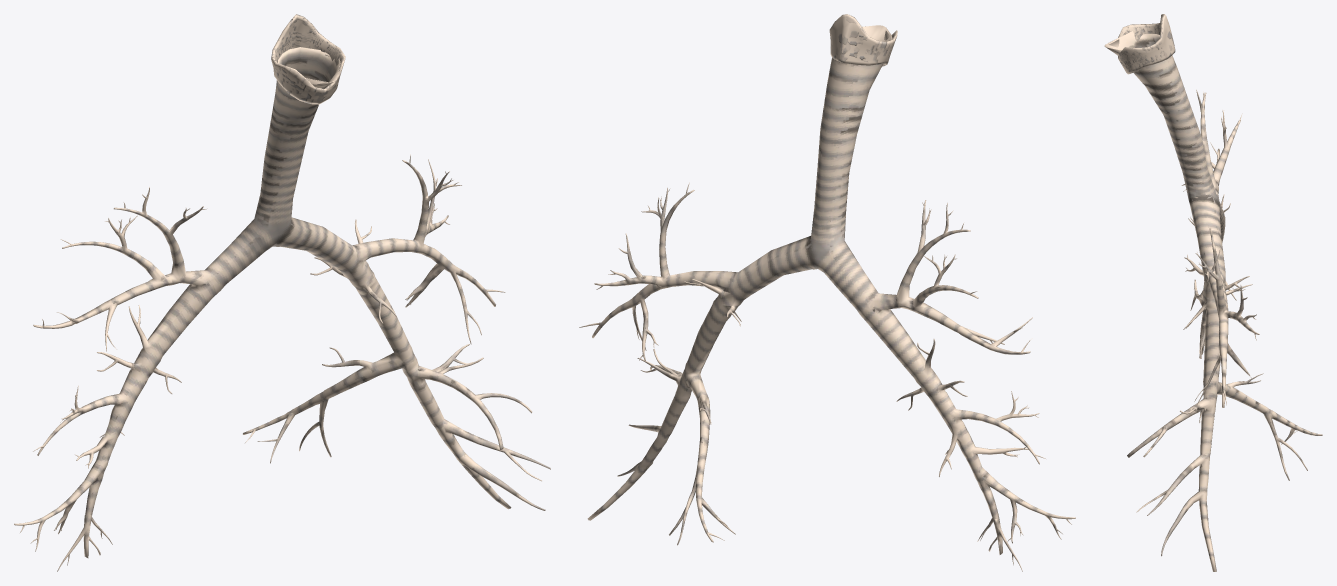
The model's file is Bronchi.FBX.
3 renders of one model, left to right at view 1: azimuth 30°, elevation 25°; view 2: azimuth 150°, elevation 25°; view 3: azimuth 270°, elevation 25°, orthographic. The views are drawn at different scales.
Visible parts, largest first — view 1: Bronchi; view 2: Bronchi; view 3: Bronchi.
Boxes of the visible parts, x1=… form: Bronchi: x1=14, y1=14, x2=550, y2=571; Bronchi: x1=579, y1=14, x2=1075, y2=571; Bronchi: x1=1104, y1=14, x2=1322, y2=571.
Size of the model in its own units: 190 by 87.75 by 205.
